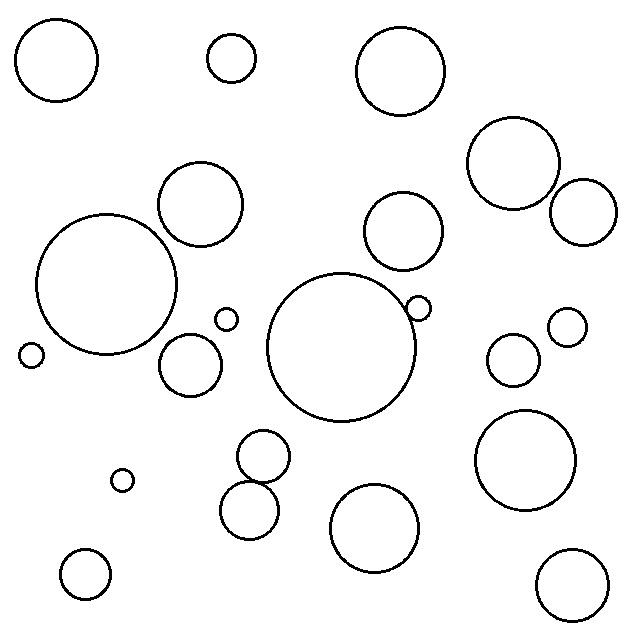circle: (264, 269, 418, 425), (34, 209, 181, 360), (472, 406, 580, 514), (463, 113, 563, 214), (354, 22, 449, 120), (327, 480, 422, 576), (155, 157, 247, 250), (10, 15, 102, 107), (362, 188, 447, 275), (532, 544, 611, 625), (548, 174, 621, 250), (156, 329, 226, 402), (217, 478, 283, 544), (483, 330, 543, 391), (233, 426, 293, 486), (56, 546, 115, 604), (204, 30, 259, 85), (544, 304, 591, 351), (211, 303, 242, 335), (15, 340, 47, 370), (107, 465, 138, 494), (404, 294, 434, 323)
